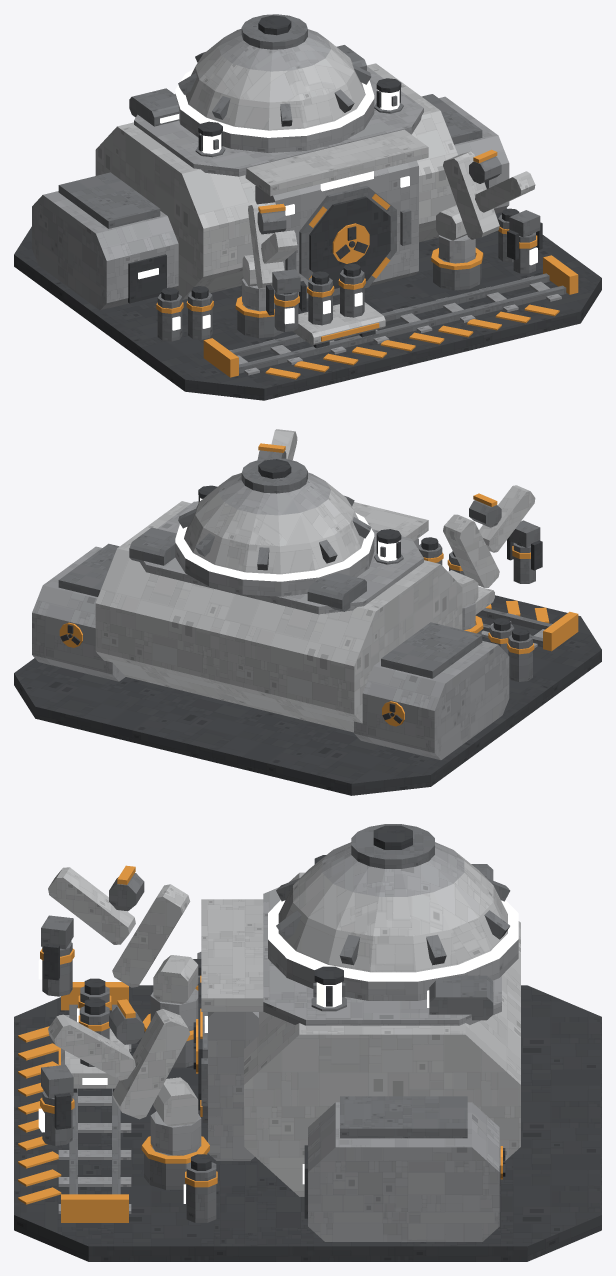
The model's file is rig_shielded_lod0.glb.
3 renders of one model, top to bottom at view 1: azimuth 30°, elevation 25°; view 2: azimuth 150°, elevation 25°; view 3: azimuth 270°, elevation 25°, orthographic. The views are drawn at different scales.
Parts seen in each view (by area): view 1: rig_shielded_base_body, rig_shielded_arm_r_body, rig_shielded_base_trim, rig_shielded_arm_l_body, rig_shielded_cart_body, rig_shielded_base_glow, rig_shielded_cart_trim; view 2: rig_shielded_base_body, rig_shielded_arm_l_body, rig_shielded_base_trim, rig_shielded_base_glow, rig_shielded_cart_body, rig_shielded_arm_r_body; view 3: rig_shielded_base_body, rig_shielded_arm_r_body, rig_shielded_arm_l_body, rig_shielded_base_trim, rig_shielded_base_glow, rig_shielded_cart_body.
Boxes of the visible parts, x1,y1,x2,y2 form: rig_shielded_base_body: (14, 14, 601, 400); rig_shielded_arm_r_body: (436, 151, 542, 273); rig_shielded_base_trim: (156, 193, 578, 379); rig_shielded_arm_l_body: (242, 202, 306, 331); rig_shielded_cart_body: (293, 263, 385, 348); rig_shielded_base_glow: (138, 69, 409, 330); rig_shielded_cart_trim: (307, 278, 379, 341); rig_shielded_base_body: (14, 458, 601, 795); rig_shielded_arm_l_body: (443, 485, 542, 629); rig_shielded_base_trim: (59, 600, 578, 726); rig_shielded_base_glow: (175, 498, 399, 581); rig_shielded_cart_body: (419, 537, 494, 614); rig_shielded_arm_r_body: (257, 429, 297, 460); rig_shielded_base_body: (14, 824, 601, 1261); rig_shielded_arm_r_body: (41, 1006, 201, 1155); rig_shielded_arm_l_body: (41, 867, 198, 1030); rig_shielded_base_trim: (18, 975, 502, 1222); rig_shielded_base_glow: (183, 900, 518, 1203); rig_shielded_cart_body: (61, 978, 128, 1092).
Size of the model in its own units: 2.9 by 1.54 by 2.76.
Materials: 3 (1 with a texture image).
